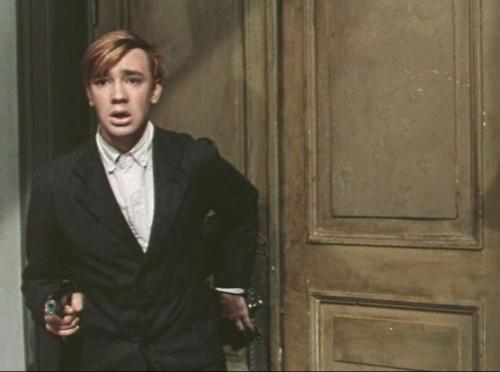Gun: (47, 287, 68, 321)
